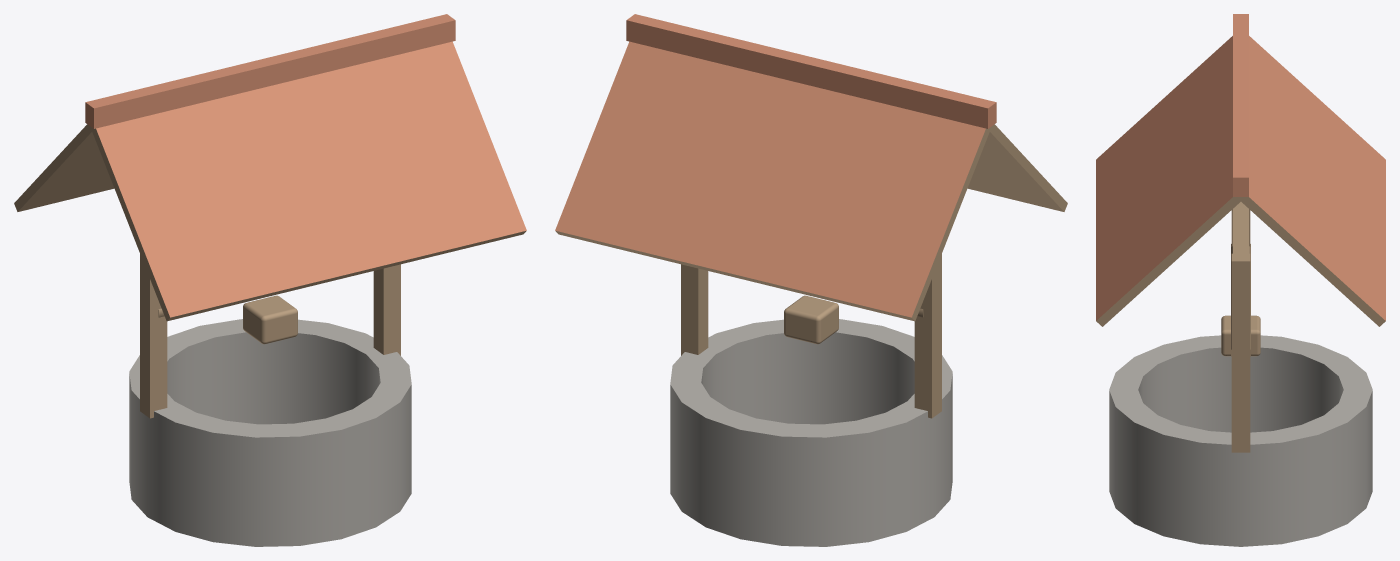
File: well.glb
3 views of the same model, side by side, from view 1: azimuth 30°, elevation 25°; view 2: azimuth 150°, elevation 25°; view 3: azimuth 270°, elevation 25° (orthographic). The views are drawn at different scales.
Parts seen in each view (by area): view 1: Well; view 2: Well; view 3: Well.
Part boxes in pixels (box(x1,y1,x2,y2)): Well: box(14, 14, 526, 546); Well: box(555, 14, 1067, 546); Well: box(1096, 14, 1385, 546).
Bounding box in the file's own units: 2.94 × 3.31 × 2.2.
